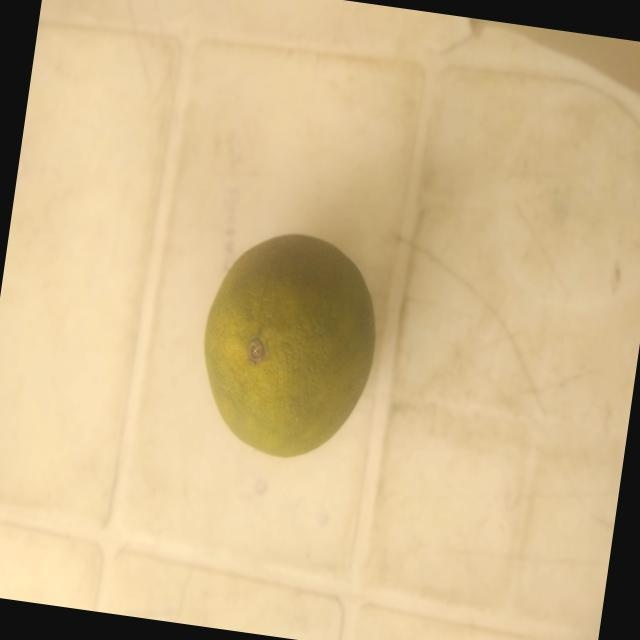agrume: (159, 194, 441, 520)
